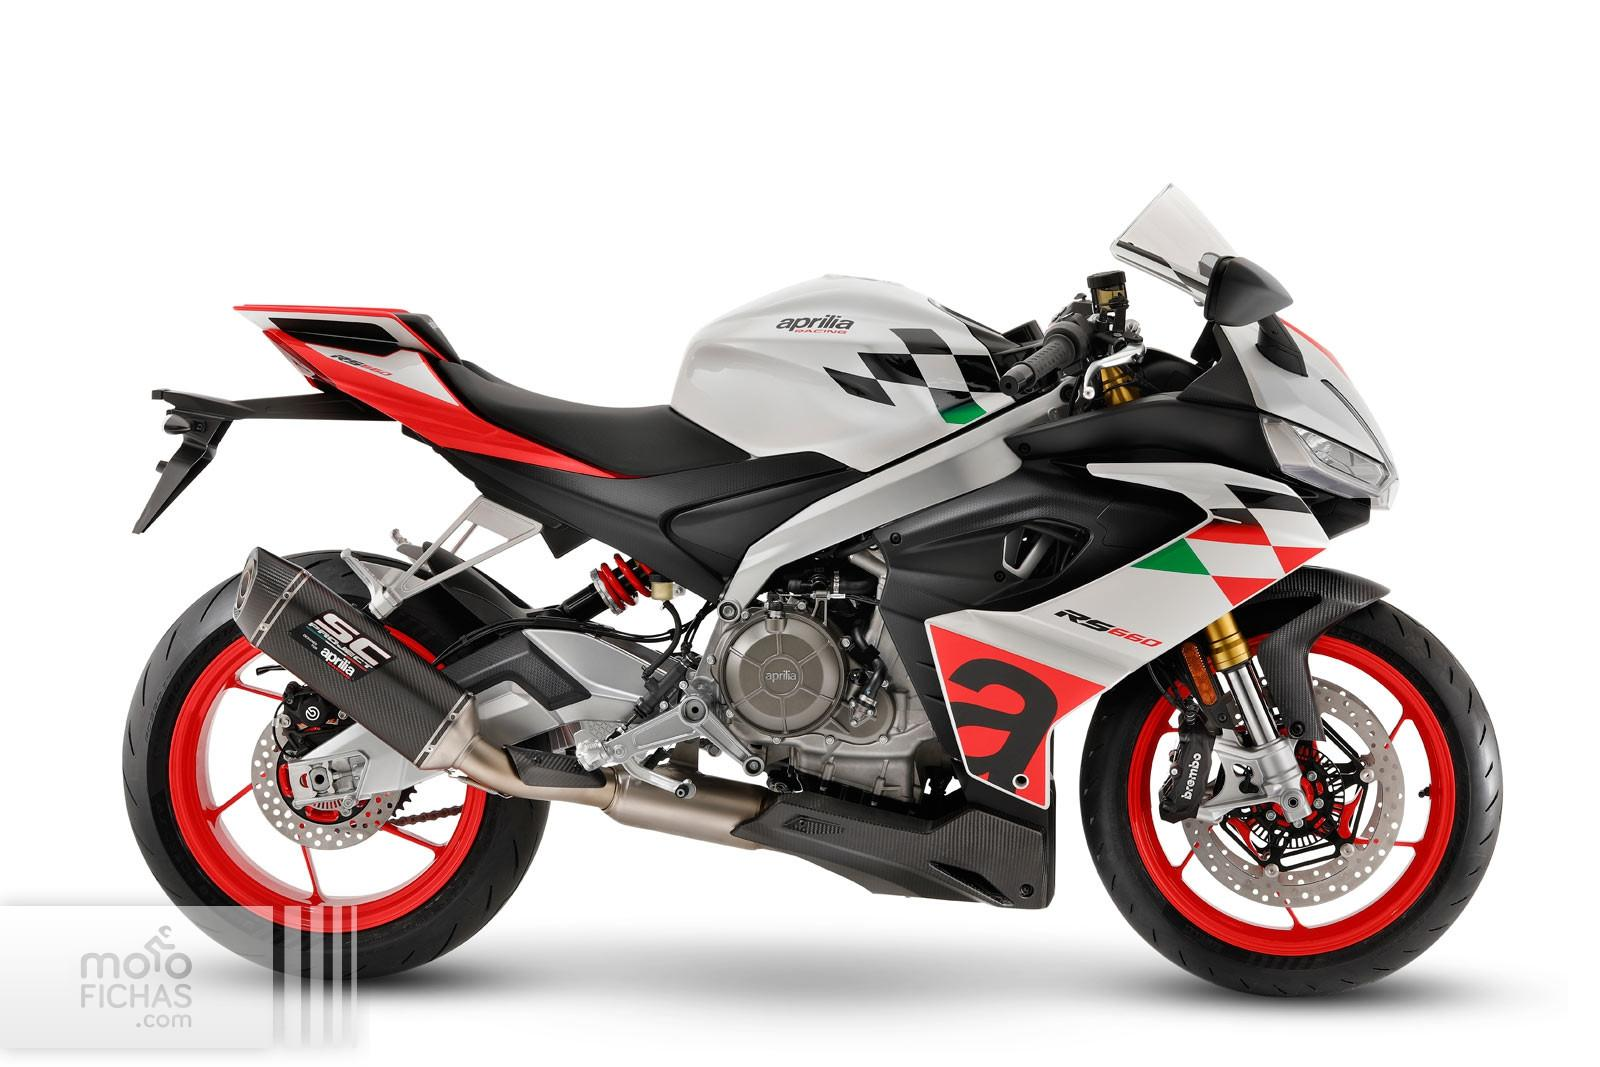engine-chasis: (530, 531, 1055, 910)
exhaust: (231, 545, 795, 856)
frontside: (717, 317, 1404, 825), (1110, 183, 1244, 308)
handlebar: (992, 269, 1146, 400), (1204, 256, 1308, 375), (1126, 348, 1208, 397), (1190, 322, 1220, 373)
motorbike: (126, 186, 1502, 992)
rearside: (131, 304, 869, 605), (339, 495, 544, 626), (440, 629, 661, 750), (287, 722, 445, 803), (439, 567, 555, 624)
seat: (424, 351, 754, 476)
tank: (670, 275, 1015, 473)
watermark: (0, 904, 358, 1059)
wheel: (121, 570, 546, 979), (1080, 599, 1502, 997), (431, 616, 675, 667), (282, 549, 369, 606)
